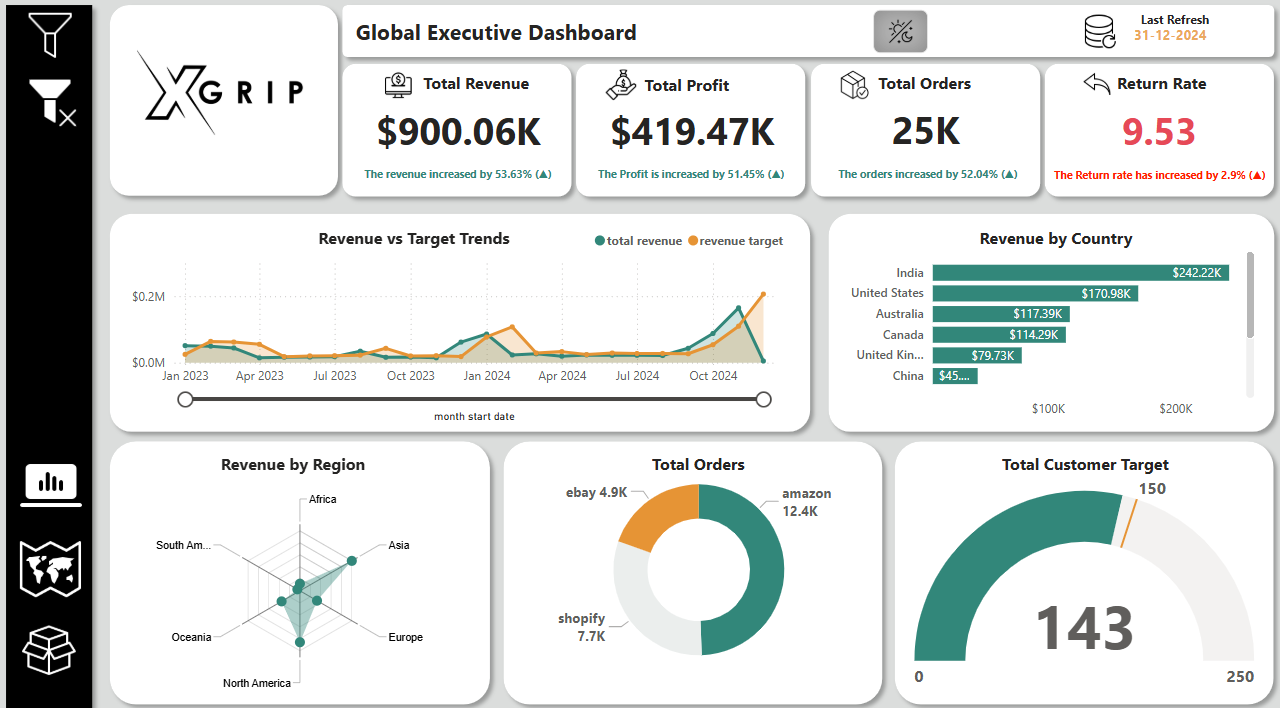

This screenshot's page, from the dashboard's own definition file:
{"tool":"powerbi","page":{"name":"Executive Dashboard","canvas":[1280,720],"ordinal":0},"visuals":[{"type":"shape","title":"Logo Shape","box":[66.1,7.3,238.6,159.7],"z":0},{"type":"shape","title":"KPI1","box":[314.4,58.8,245,125],"z":0,"group":"g1"},{"type":"shape","title":"Logo Shape","box":[64.9,183.3,732.8,230.9],"z":0,"group":"g2"},{"type":"image","title":"Map Chart","box":[0,586,63.6,61.2],"z":0,"group":"g3"},{"type":"shape","title":"Heading SHape","box":[314.5,0,965.5,60.9],"z":1000},{"type":"shape","title":"KPI2","box":[554.7,58.8,244.7,125],"z":1000,"group":"g1"},{"type":"shape","title":"Logo Shape","box":[797,183.3,481.4,230.9],"z":1000,"group":"g2"},{"type":"image","title":"Product Chart","box":[0,643.6,64.9,66.1],"z":1000,"group":"g3"},{"type":"shape","title":"Filter Pane Shape","box":[0,0,66.5,720],"z":2000},{"type":"shape","title":"KPI3","box":[794.7,58.8,245,125],"z":2000,"group":"g1"},{"type":"shape","title":"Logo Shape","box":[64.9,407.3,405,311.4],"z":2000,"group":"g2"},{"type":"image","title":"Dashboard ceo","box":[0,528.6,67.3,67.3],"z":2000,"group":"g3"},{"type":"group","id":"g1","title":"KPI Shape","box":[67,58.8,1213,661.2],"z":3000},{"type":"shape","title":"KPI4","box":[1035,58.8,245,125],"z":3000,"group":"g1"},{"type":"shape","title":"Logo Shape","box":[466.8,407.3,405,311.4],"z":3000,"group":"g2"},{"type":"group","id":"g2","title":"Chart Shape","box":[64.9,183.3,1213.5,535.4],"z":4000},{"type":"shape","title":"Logo Shape","box":[868.8,407.3,405,311.4],"z":4000,"group":"g2"},{"type":"textbox","box":[67,535,346,185],"z":4000,"group":"g1"},{"type":"image","box":[61.5,17.4,246.8,125.7],"z":5000},{"type":"RadarChart1446119667547","fields":{"Category":["country.region"],"Y":["measures table.total revenue"]},"box":[89,448,351.6,246.2],"z":5000,"group":"g2"},{"type":"textbox","box":[330.1,10.8,278,40.3],"z":6000},{"type":"donutChart","fields":{"Category":["mkt_place.platform_name"],"Y":["measures table.total orders"]},"box":[511.9,436.3,325.7,260.6],"z":6000,"group":"g2"},{"type":"card","fields":{"Values":["measures table.total revenue"]},"box":[356.4,80.8,168.8,79],"z":7000},{"type":"gauge","fields":{"Y":["measures table.total customers"]},"box":[926.4,462.4,303.7,232],"z":7000,"group":"g2"},{"type":"card","fields":{"Values":["measures table.total profit"]},"box":[592.5,80.8,167.9,79],"z":8000},{"type":"card","fields":{"Values":["measures table.total orders"]},"box":[862.7,98.1,113.7,48],"z":9000},{"type":"card","fields":{"Values":["measures table.return rate"]},"box":[1083.9,100.1,130.4,43.8],"z":10000},{"type":"lineChart","fields":{"Y":["measures table.total revenue","measures table.month rev target lc"],"Category":["date_table.Year Hierarchy.Year","date_table.Year Hierarchy.Quarter","date_table.Year Hierarchy.Month Start Date"]},"box":[88.7,219,686.8,172.7],"z":11000},{"type":"barChart","fields":{"Category":["country.country"],"Y":["measures table.total revenue"]},"box":[827.6,219,429.2,178.4],"z":12000},{"type":"image","box":[369.9,67.3,53,35],"z":13000},{"type":"textbox","box":[402.8,70.7,103.7,31.2],"z":14000},{"type":"image","box":[608.7,69.1,36.8,36.8],"z":15000},{"type":"textbox","box":[640.1,71.8,84.4,31.4],"z":16000},{"type":"textbox","box":[890,72.7,94.5,31.8],"z":17000},{"type":"textbox","box":[1128.5,70,95.2,31.4],"z":18000},{"type":"textbox","box":[296.4,194.5,196.4,32.1],"z":19000},{"type":"textbox","box":[967.1,194.5,167,32.1],"z":20000},{"type":"textbox","box":[193.9,420.1,165.2,31.4],"z":21000},{"type":"textbox","box":[623,423.9,101.8,31.2],"z":22000},{"type":"textbox","box":[989.3,423.7,163.4,31.4],"z":23000},{"type":"image","box":[1099.8,65.5,34.1,38.6],"z":24000},{"type":"image","box":[863,71.8,32.7,37.3],"z":25000},{"type":"image","box":[1059.6,11,48.6,39],"z":26000},{"type":"textbox","box":[1116.4,6.8,95.9,31.5],"z":27000},{"type":"card","fields":{"Values":["measures table.last refresh"]},"box":[1100,25.3,124,24.7],"z":28000},{"type":"group","id":"g3","title":"Page Nav Icons","box":[0,528.6,67.3,181.1],"z":29000},{"type":"image","title":"Filter Icon","box":[0,0,59.3,51.2],"z":30000},{"type":"image","title":"Clear All Filters button","box":[1.8,52.1,61.9,50.3],"z":31000},{"type":"card","fields":{"Values":["measures table.kpi revenue"]},"box":[342.2,144,197.2,30.3],"z":33000},{"type":"card","fields":{"Values":["measures table.kpi profit"]},"box":[583.1,145,197.2,30.3],"z":34000},{"type":"card","fields":{"Values":["measures table.kpi orders"]},"box":[821,146,197.2,30.3],"z":35000},{"type":"card","fields":{"Values":["measures table.kpi returnrate"]},"box":[1063,146,197.2,30.3],"z":36000},{"type":"image","box":[760.4,10.8,48.5,38.6],"z":37000},{"type":"textbox","box":[83.3,121.3,221.4,40.1],"z":38000}]}

Visuals, with their boxes on the page's 1280x720 design canvas (x1, y1, x2, y2). These are canvas units, not pixel positions in the 1280x708 screenshot, which may show the page scaled, cropped or inside an application window:
"Logo Shape" shape: x1=66 y1=7 x2=305 y2=167
"KPI1" shape: x1=314 y1=59 x2=559 y2=184
"Logo Shape" shape: x1=65 y1=183 x2=798 y2=414
"Map Chart" image: x1=0 y1=586 x2=64 y2=647
"Heading SHape" shape: x1=314 y1=0 x2=1280 y2=61
"KPI2" shape: x1=555 y1=59 x2=799 y2=184
"Logo Shape" shape: x1=797 y1=183 x2=1278 y2=414
"Product Chart" image: x1=0 y1=644 x2=65 y2=710
"Filter Pane Shape" shape: x1=0 y1=0 x2=66 y2=720
"KPI3" shape: x1=795 y1=59 x2=1040 y2=184
"Logo Shape" shape: x1=65 y1=407 x2=470 y2=719
"Dashboard ceo" image: x1=0 y1=529 x2=67 y2=596
"KPI Shape" group: x1=67 y1=59 x2=1280 y2=720
"KPI4" shape: x1=1035 y1=59 x2=1280 y2=184
"Logo Shape" shape: x1=467 y1=407 x2=872 y2=719
"Chart Shape" group: x1=65 y1=183 x2=1278 y2=719
"Logo Shape" shape: x1=869 y1=407 x2=1274 y2=719
textbox: x1=67 y1=535 x2=413 y2=720
image: x1=62 y1=17 x2=308 y2=143
RadarChart1446119667547 - country.region x measures table.total revenue: x1=89 y1=448 x2=441 y2=694
textbox: x1=330 y1=11 x2=608 y2=51
donutChart - mkt_place.platform_name x measures table.total orders: x1=512 y1=436 x2=838 y2=697
card - measures table.total revenue: x1=356 y1=81 x2=525 y2=160
gauge - measures table.total customers: x1=926 y1=462 x2=1230 y2=694
card - measures table.total profit: x1=592 y1=81 x2=760 y2=160
card - measures table.total orders: x1=863 y1=98 x2=976 y2=146
card - measures table.return rate: x1=1084 y1=100 x2=1214 y2=144
lineChart - measures table.total revenue x measures table.month rev target lc: x1=89 y1=219 x2=776 y2=392
barChart - country.country x measures table.total revenue: x1=828 y1=219 x2=1257 y2=397
image: x1=370 y1=67 x2=423 y2=102
textbox: x1=403 y1=71 x2=506 y2=102
image: x1=609 y1=69 x2=646 y2=106
textbox: x1=640 y1=72 x2=724 y2=103
textbox: x1=890 y1=73 x2=984 y2=104
textbox: x1=1128 y1=70 x2=1224 y2=101
textbox: x1=296 y1=194 x2=493 y2=227
textbox: x1=967 y1=194 x2=1134 y2=227
textbox: x1=194 y1=420 x2=359 y2=452
textbox: x1=623 y1=424 x2=725 y2=455
textbox: x1=989 y1=424 x2=1153 y2=455
image: x1=1100 y1=66 x2=1134 y2=104
image: x1=863 y1=72 x2=896 y2=109
image: x1=1060 y1=11 x2=1108 y2=50
textbox: x1=1116 y1=7 x2=1212 y2=38
card - measures table.last refresh: x1=1100 y1=25 x2=1224 y2=50
"Page Nav Icons" group: x1=0 y1=529 x2=67 y2=710
"Filter Icon" image: x1=0 y1=0 x2=59 y2=51
"Clear All Filters button" image: x1=2 y1=52 x2=64 y2=102
card - measures table.kpi revenue: x1=342 y1=144 x2=539 y2=174
card - measures table.kpi profit: x1=583 y1=145 x2=780 y2=175
card - measures table.kpi orders: x1=821 y1=146 x2=1018 y2=176
card - measures table.kpi returnrate: x1=1063 y1=146 x2=1260 y2=176
image: x1=760 y1=11 x2=809 y2=49
textbox: x1=83 y1=121 x2=305 y2=161
